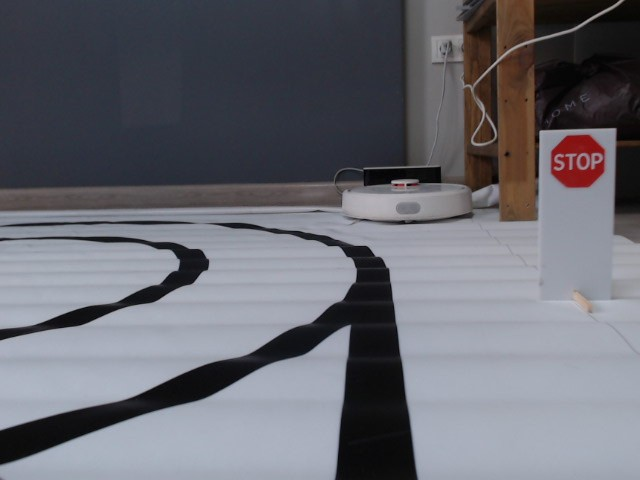Stop: (549, 133, 607, 190)
